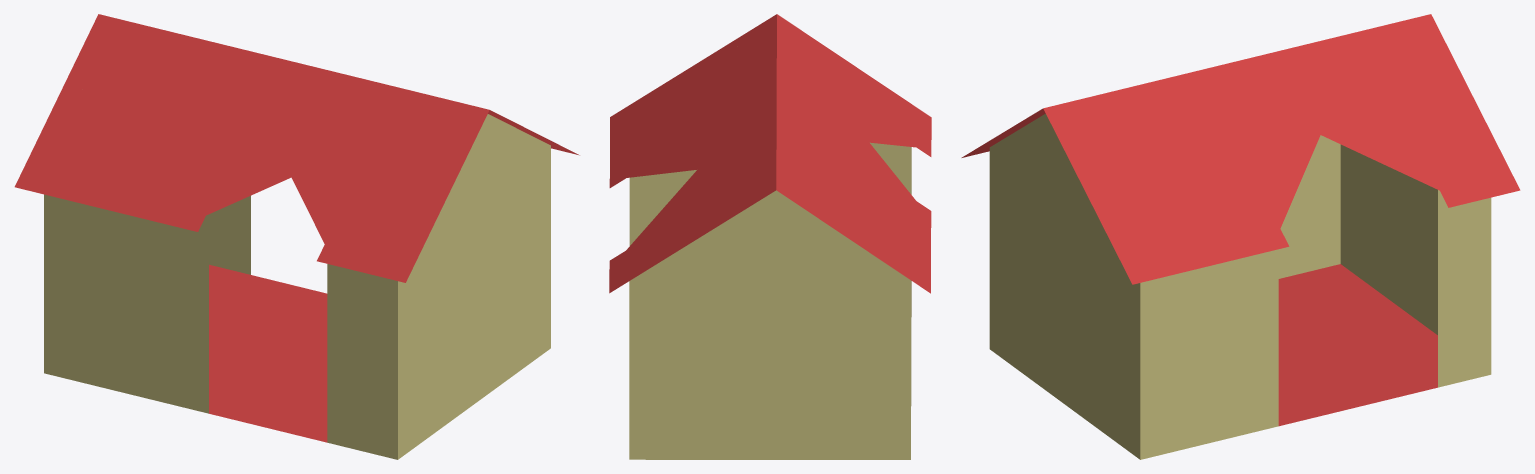
3 views of the same model, side by side, from view 1: azimuth 30°, elevation 25°; view 2: azimuth 150°, elevation 25°; view 3: azimuth 270°, elevation 25° (orthographic). The views are drawn at different scales.
Size of the model in its own units: 18.26 by 19.58 by 11.51.
